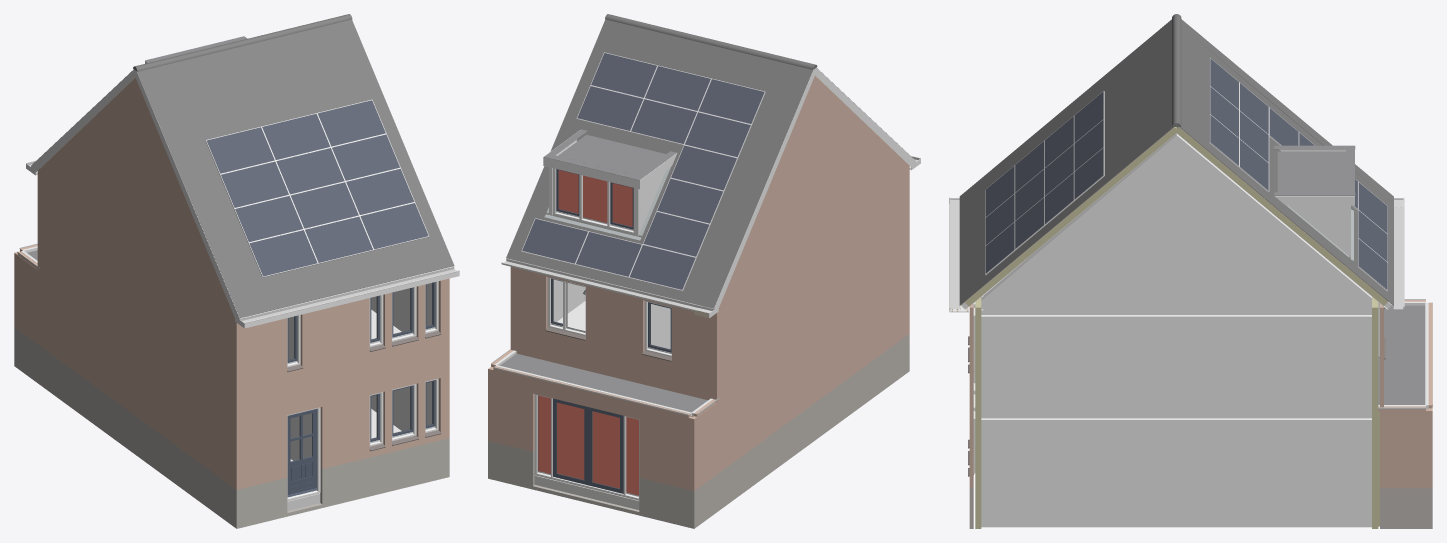
The model's file is building.gltf.
3 renders of one model, left to right at view 1: azimuth 30°, elevation 25°; view 2: azimuth 150°, elevation 25°; view 3: azimuth 270°, elevation 25°, orthographic. The views are drawn at different scales.
Visible parts, largest first — view 1: product-2caf849d-c1d7-4b8d-81dd-d6b849f2f8df-body, product-9e05b372-76f3-49b4-a715-30663eec616d-body, product-4dcd8a4e-9164-4e94-be92-fe4a5920c9ef-body, product-98d56421-6bfc-4dca-936c-d5346e106319-body, product-4a67ae13-e707-467a-bb5b-27dd3fb35510-body, product-e07211c7-a9ea-4f3d-975e-e3814996e42f-body, product-199dfc9b-44c2-40fb-b892-1c54b28f72ab-body, product-53f3fe69-f917-43e9-9123-67a6cc495d62-body, product-df74a08d-fa6e-45a0-a2d8-94fdf245c0d1-body, product-5dd055ed-1c5d-4fc7-8f4b-beba8b19a08b-body, product-507805ac-8531-49f5-92e0-d55af0895cdf-body, product-480076e2-234b-4fe6-a8b6-1620d9115d6f-body (+23 smaller); view 2: product-9e05b372-76f3-49b4-a715-30663eec616d-body, product-4dcd8a4e-9164-4e94-be92-fe4a5920c9ef-body, product-98d56421-6bfc-4dca-936c-d5346e106319-body, product-4cf510cd-8c71-42ae-a9cd-a88160f811ea-body, product-543dae56-a914-406f-956b-e46d8272ad81-body, product-039e534f-e112-4dcc-834e-83a837b7eaba-body, product-0e078d5b-9c87-4fc2-a939-2d69c7c78c2b-body, product-199dfc9b-44c2-40fb-b892-1c54b28f72ab-body, product-d67625a3-0604-4ae1-9cb3-4bb646dbc163-body, product-a3c7f4b1-4b9a-4250-bc35-c083febf3e1a-body, product-26806991-e1bc-4963-b8dd-6e30be7ee5b3-body, product-79c22020-7eed-4047-8f62-b206018d71a4-body (+29 smaller); view 3: product-13e1778a-74df-4f9b-a46e-aa3f017622c8-body, product-df3cceaa-6f53-4eb9-9f54-a15a6db451e8-body, product-efd107ec-b3f5-4fdb-a2ac-0e281406961f-body, product-2caf849d-c1d7-4b8d-81dd-d6b849f2f8df-body, product-543dae56-a914-406f-956b-e46d8272ad81-body, product-6dec39dc-5ac4-434f-90fb-7ee523c822be-body, product-eb9c2d7c-d823-4640-9408-82f1419080a7-body, product-cf3174be-f7ac-47c8-9bf0-f1ab226229f4-body, product-2e3a88f0-eca0-41f1-97f5-a8e128583d69-body, product-7675a35e-3ad0-4e42-862d-18db072b8a67-body, product-a754fa7e-87a8-4ead-bd51-7a9f6d03b065-body, product-df74a08d-fa6e-45a0-a2d8-94fdf245c0d1-body (+40 smaller).
Boxes of the visible parts, x1,y1,x2,y2 form: product-2caf849d-c1d7-4b8d-81dd-d6b849f2f8df-body: (152, 19, 454, 314); product-9e05b372-76f3-49b4-a715-30663eec616d-body: (39, 172, 239, 415); product-4dcd8a4e-9164-4e94-be92-fe4a5920c9ef-body: (16, 254, 239, 489); product-98d56421-6bfc-4dca-936c-d5346e106319-body: (38, 78, 232, 313); product-4a67ae13-e707-467a-bb5b-27dd3fb35510-body: (240, 278, 449, 414); product-e07211c7-a9ea-4f3d-975e-e3814996e42f-body: (240, 363, 449, 488); product-199dfc9b-44c2-40fb-b892-1c54b28f72ab-body: (16, 329, 239, 528); product-53f3fe69-f917-43e9-9123-67a6cc495d62-body: (240, 438, 449, 527); product-df74a08d-fa6e-45a0-a2d8-94fdf245c0d1-body: (137, 68, 254, 318); product-5dd055ed-1c5d-4fc7-8f4b-beba8b19a08b-body: (287, 407, 320, 500); product-507805ac-8531-49f5-92e0-d55af0895cdf-body: (248, 229, 318, 277); product-480076e2-234b-4fe6-a8b6-1620d9115d6f-body: (234, 195, 303, 242); product-9e05b372-76f3-49b4-a715-30663eec616d-body: (719, 166, 909, 400); product-4dcd8a4e-9164-4e94-be92-fe4a5920c9ef-body: (693, 262, 909, 489); product-98d56421-6bfc-4dca-936c-d5346e106319-body: (721, 76, 909, 303); product-4cf510cd-8c71-42ae-a9cd-a88160f811ea-body: (510, 266, 718, 402); product-543dae56-a914-406f-956b-e46d8272ad81-body: (558, 19, 798, 181); product-039e534f-e112-4dcc-834e-83a837b7eaba-body: (534, 394, 639, 499); product-0e078d5b-9c87-4fc2-a939-2d69c7c78c2b-body: (491, 368, 696, 490); product-199dfc9b-44c2-40fb-b892-1c54b28f72ab-body: (696, 334, 909, 526); product-d67625a3-0604-4ae1-9cb3-4bb646dbc163-body: (491, 442, 696, 528); product-a3c7f4b1-4b9a-4250-bc35-c083febf3e1a-body: (506, 206, 720, 305); product-26806991-e1bc-4963-b8dd-6e30be7ee5b3-body: (699, 66, 812, 308); product-79c22020-7eed-4047-8f62-b206018d71a4-body: (553, 168, 634, 233); product-13e1778a-74df-4f9b-a46e-aa3f017622c8-body: (981, 315, 1371, 418); product-df3cceaa-6f53-4eb9-9f54-a15a6db451e8-body: (981, 418, 1371, 521); product-efd107ec-b3f5-4fdb-a2ac-0e281406961f-body: (981, 133, 1371, 309); product-2caf849d-c1d7-4b8d-81dd-d6b849f2f8df-body: (959, 27, 1173, 305); product-543dae56-a914-406f-956b-e46d8272ad81-body: (1180, 27, 1282, 213); product-6dec39dc-5ac4-434f-90fb-7ee523c822be-body: (1380, 409, 1432, 488); product-eb9c2d7c-d823-4640-9408-82f1419080a7-body: (1378, 308, 1419, 404); product-cf3174be-f7ac-47c8-9bf0-f1ab226229f4-body: (1277, 151, 1345, 192); product-2e3a88f0-eca0-41f1-97f5-a8e128583d69-body: (981, 522, 1371, 527); product-7675a35e-3ad0-4e42-862d-18db072b8a67-body: (1380, 488, 1432, 528); product-a754fa7e-87a8-4ead-bd51-7a9f6d03b065-body: (981, 309, 1371, 314); product-df74a08d-fa6e-45a0-a2d8-94fdf245c0d1-body: (959, 19, 1171, 203).
Size of what is drawn, in the model's own units: 6.45 by 11 by 11.89.
